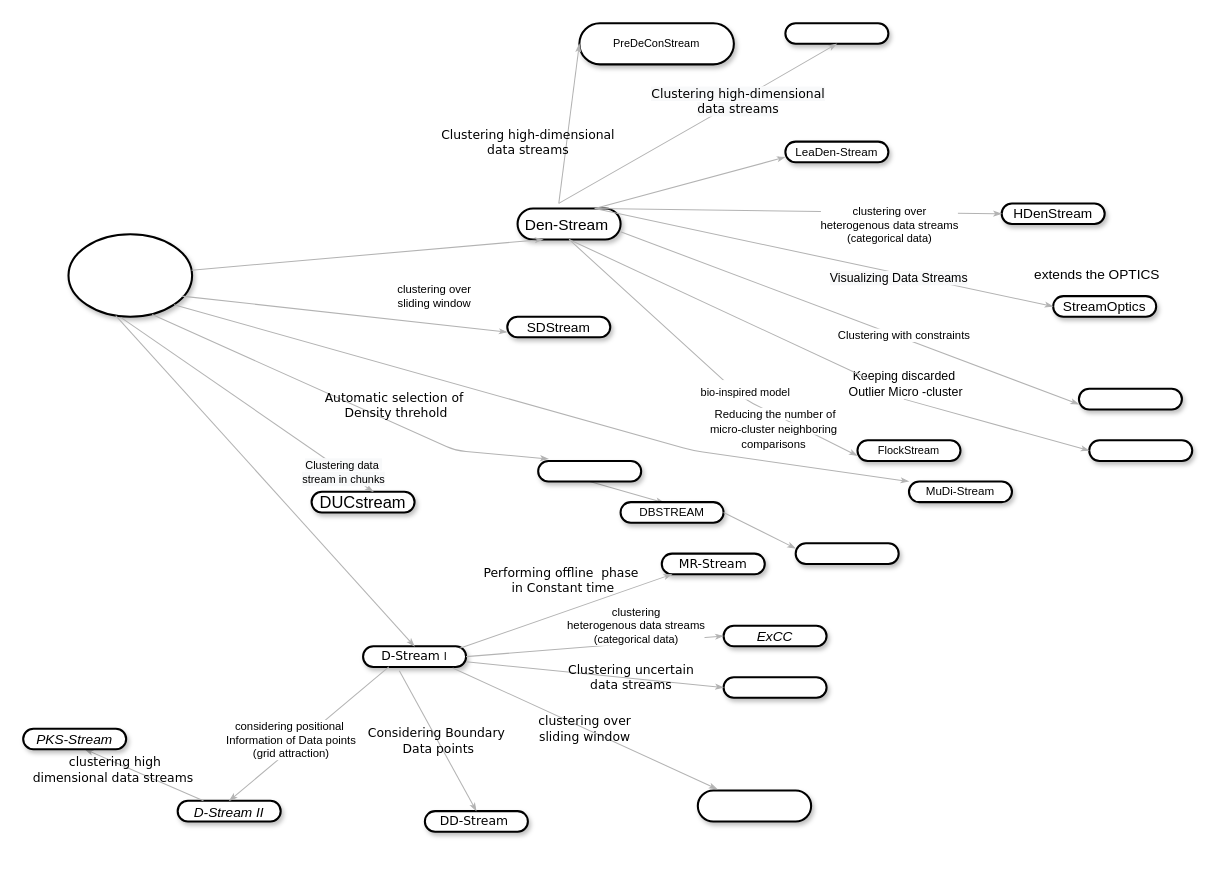
This 1216x876 diagram has some shape labels left out. Each missing label, with the centre of its shape:
C-DenStream: [1131,400]
DCUStream: [775,689]
Density based online clustering: [131,276]
evoStream: [847,555]
HDCStream: [755,807]
HDDStream: [837,35]
R-DenStream: [1141,452]
SOStream: [590,472]
